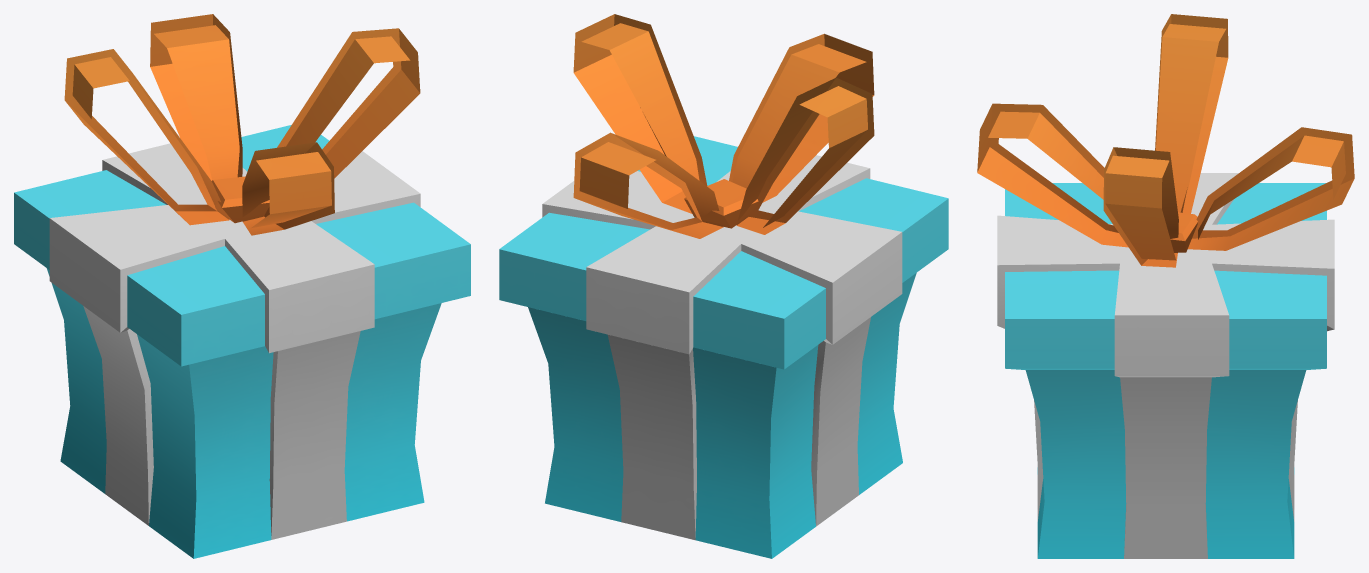
Rendered from gift3.glb.
The picture shows the model from 3 angles, left to right: view 1: azimuth 30°, elevation 25°; view 2: azimuth 150°, elevation 25°; view 3: azimuth 270°, elevation 25°; orthographic projection. The views are drawn at different scales.
Parts seen in each view (by area): view 1: Gift3; view 2: Gift3; view 3: Gift3.
Part boxes in pixels (left/top/right/bottom): Gift3: left=14, top=14, right=470, bottom=558; Gift3: left=499, top=14, right=948, bottom=558; Gift3: left=977, top=14, right=1354, bottom=558.
Bounding box in the file's own units: 0.3015 × 0.4048 × 0.3286.
Materials: 1 (1 with a texture image).
